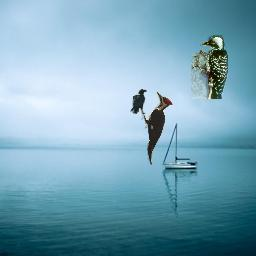Crow: (130, 89, 147, 114)
Woodpecker: (140, 92, 173, 165), (191, 35, 228, 99)
